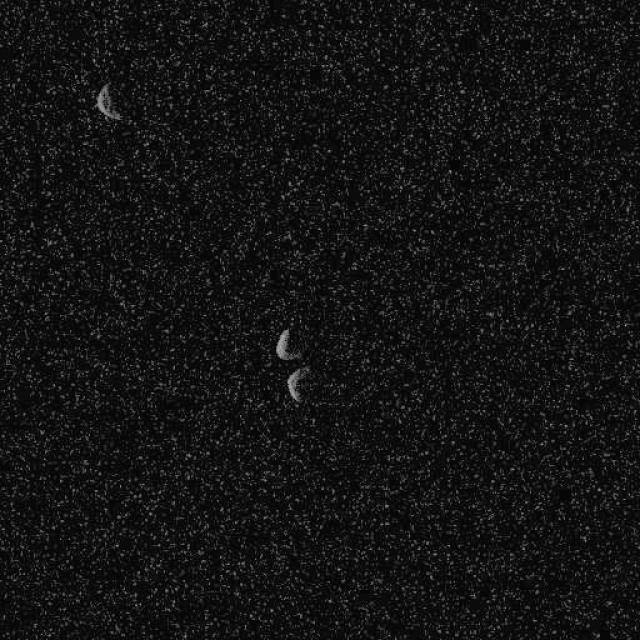D2: (94, 81, 122, 122), (285, 365, 310, 404), (274, 326, 301, 362)
